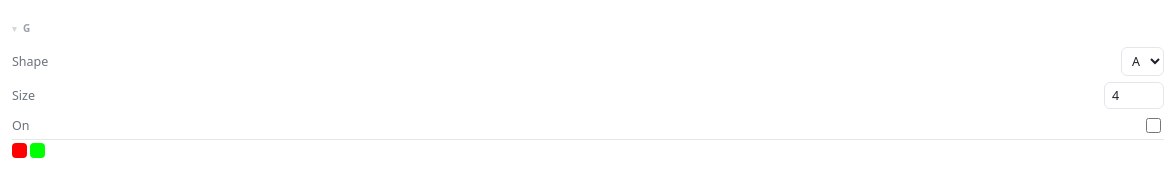
Test: SchemaForm › collapses a group on header click, hiding its controls
The width and height of the screenshot is (1176, 175).
Click the button with class "inspsub-toggle": (15, 28) [12, 12, 1164, 40]
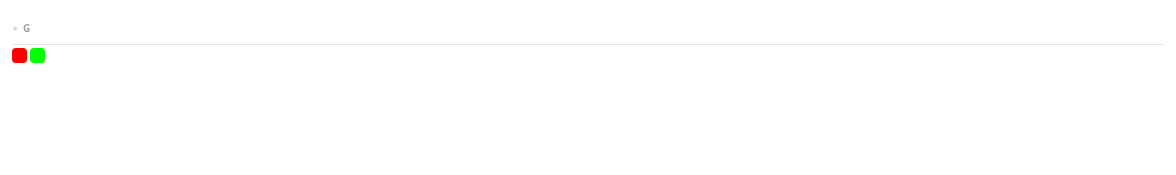
Check: the dropdown with class "selin" is gone
